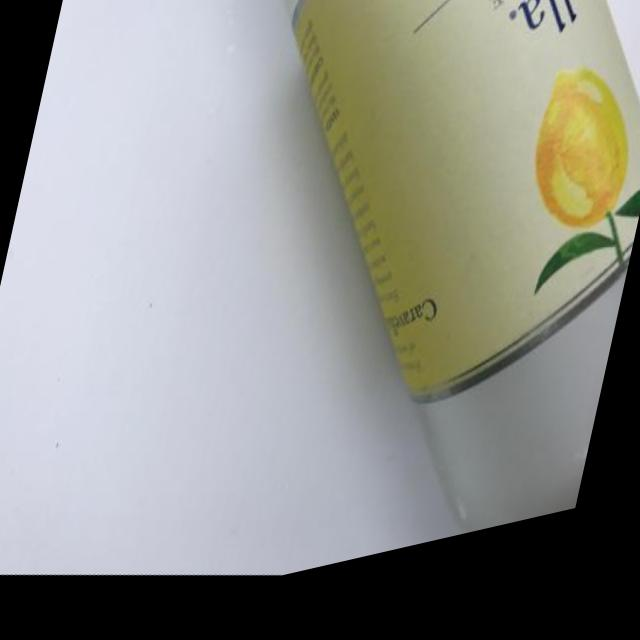glass: (55, 0, 640, 630)
